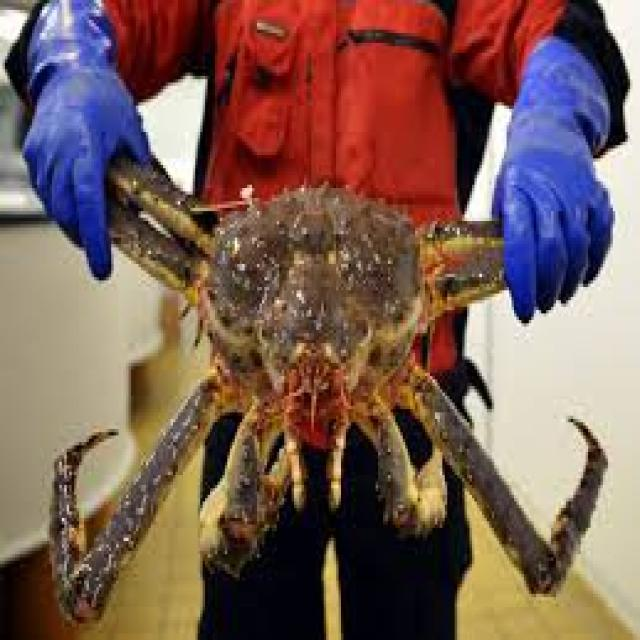crab: (165, 196, 465, 488)
